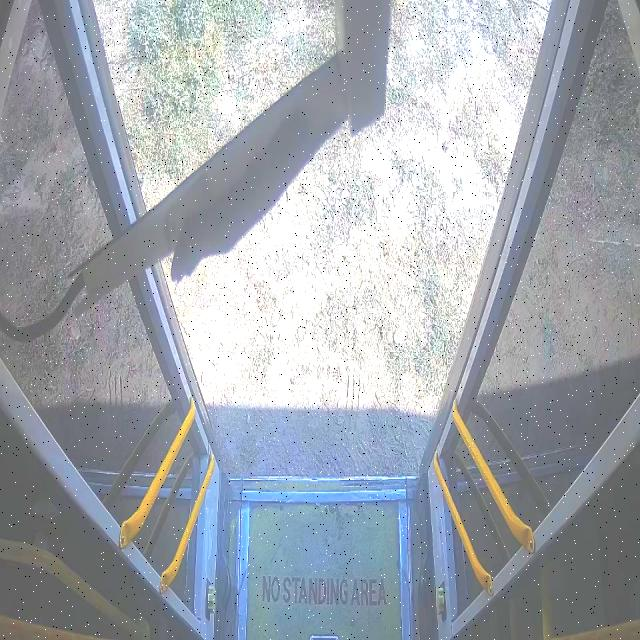open: (74, 4, 576, 490)
